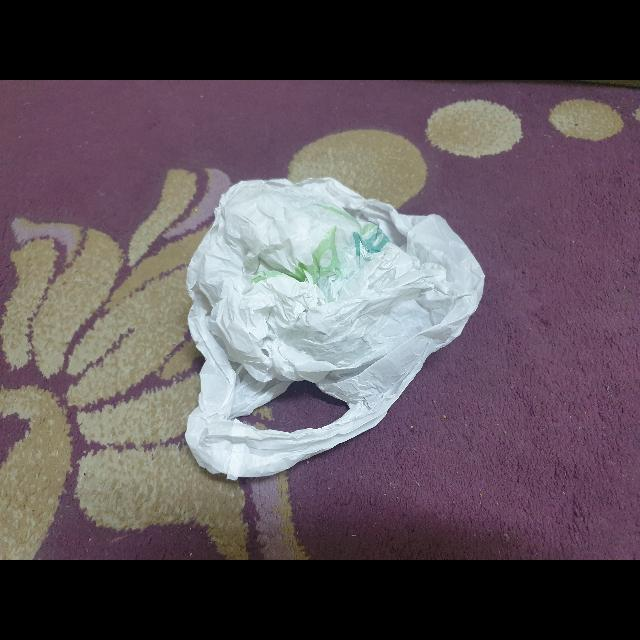plastic_bag: (165, 163, 493, 485)
